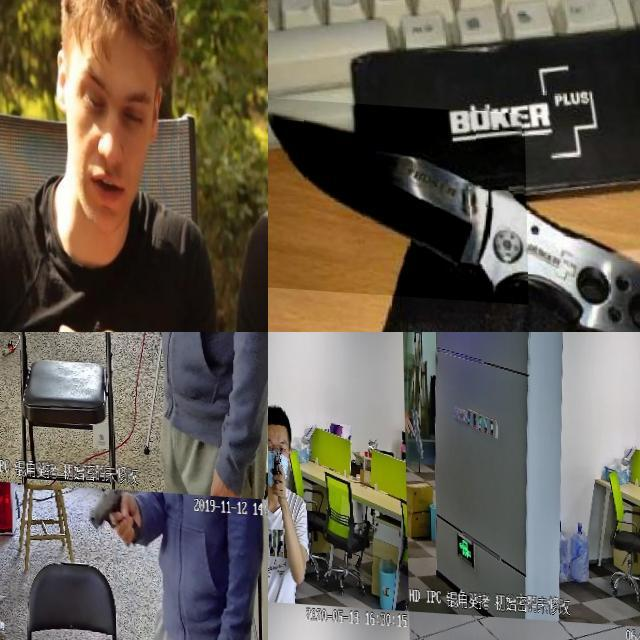-: (268, 96, 526, 300)
gun-knife-thesis - v11 Yolov5 augmented: (80, 480, 140, 550), (72, 332, 117, 373), (0, 576, 23, 640), (403, 400, 423, 454), (0, 332, 28, 370), (271, 442, 282, 492)
